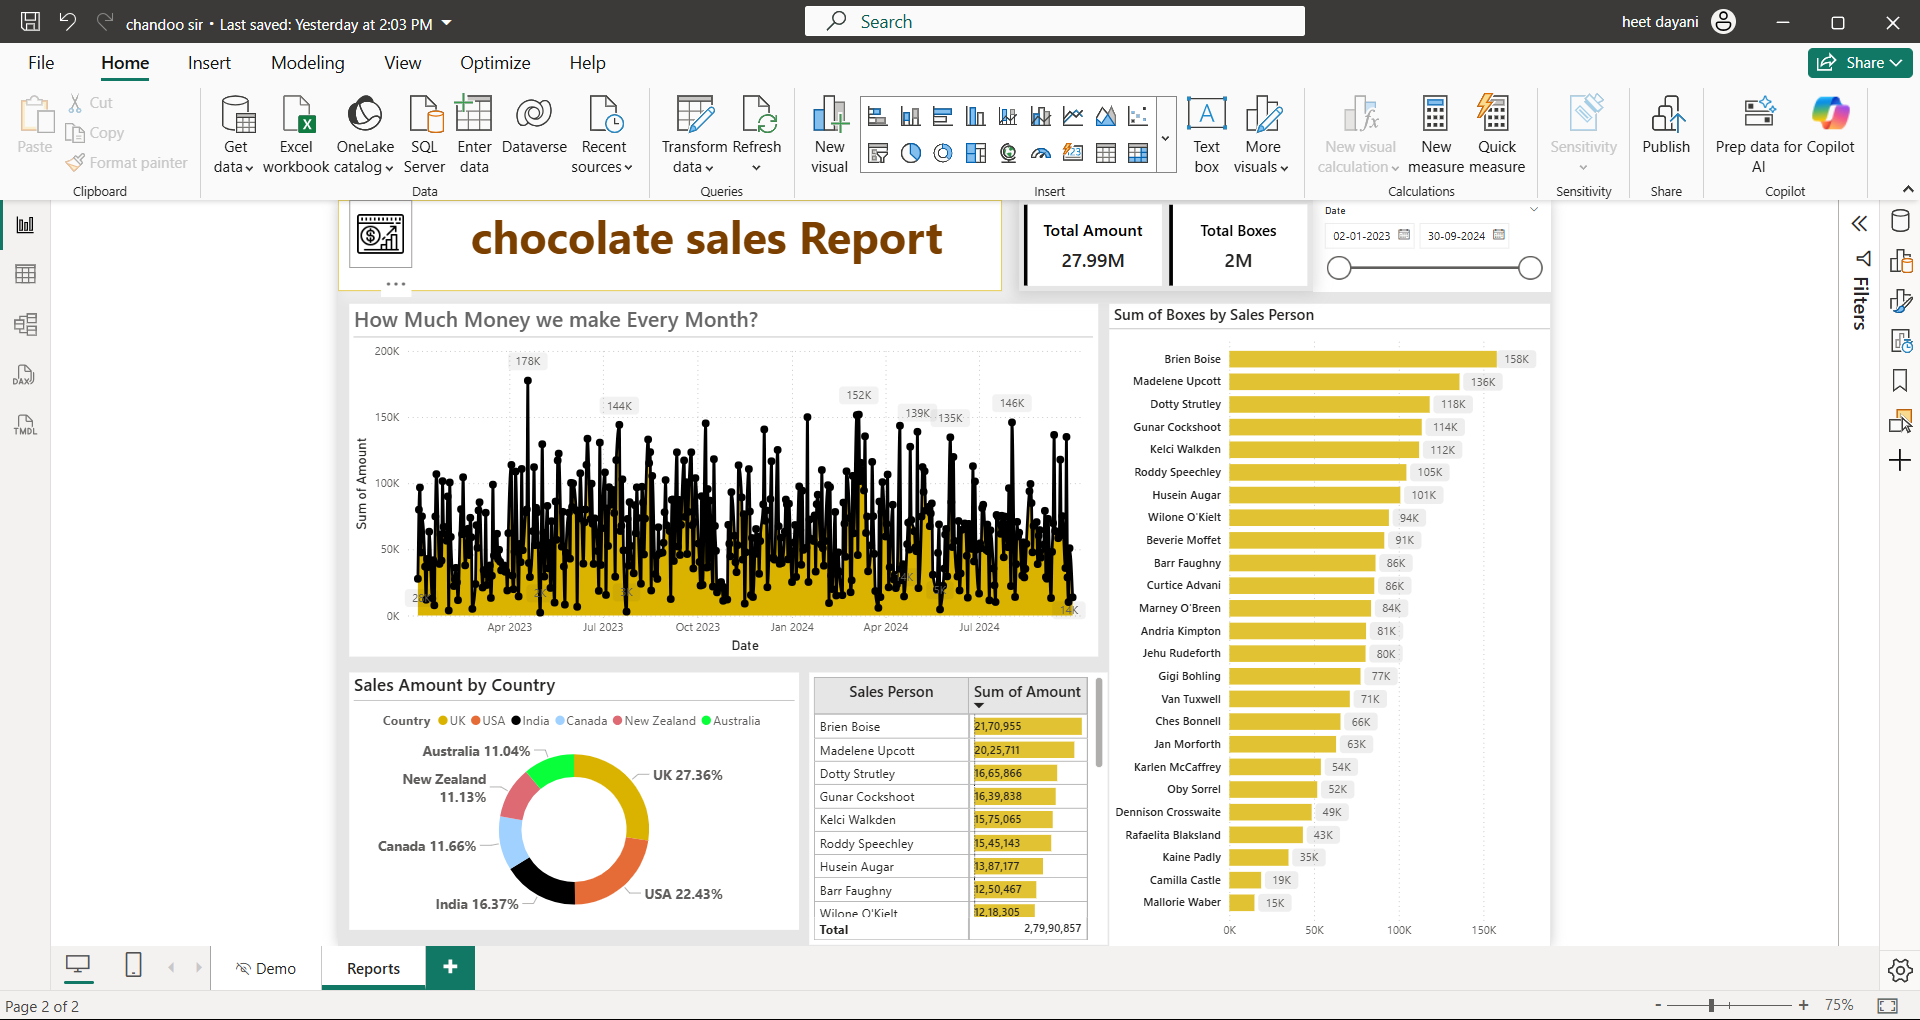

Layout of this report page (visuals, bound fields, positions):
{"tool":"powerbi","page":{"name":"Reports ","canvas":[1300,800],"ordinal":1},"visuals":[{"type":"donutChart","title":"Sales Amount by Country","fields":{"Category":["data.Country"],"Y":["Sum(data.Amount)"]},"box":[16.1,490.6,479.9,293.6],"z":0},{"type":"pivotTable","fields":{"Rows":["data.Sales Person"],"Values":["Sum(data.Amount)"]},"box":[505.4,490.6,320.4,308.3],"z":1000},{"type":"slicer","fields":{"Values":["data.Date Hierarchy.Date"]},"box":[1076.4,0,223.9,96.5],"z":2000},{"type":"clusteredBarChart","title":"Boxes and Sum of Amount by Sales Person","fields":{"Category":["data.Sales Person"],"Y":["Sum(data.Boxes)"]},"box":[832.4,112.6,463.8,662.2],"z":3000},{"type":"cardVisual","title":"Amount","fields":{"Data":["Sum(data.Amount)","Sum(data.Boxes)"]},"box":[760.1,0,304.3,104.6],"z":4000},{"type":"textbox","box":[16.1,8,719.8,96.5],"z":5000},{"type":"image","box":[48,16,64,64],"z":6000},{"type":"lineChart","title":"How Much  Money We make every Month?","fields":{"Y":["Sum(data.Amount)"],"Category":["DateTable.Date"]},"box":[16,112,800,368],"z":7000}]}

Visuals, with their boxes on the page's 1300x800 design canvas (x1, y1, x2, y2). These are canvas units, not pixel positions in the 1920x1020 screenshot, which may show the page scaled, cropped or inside an application window:
"Sales Amount by Country" donutChart: {"left": 16, "top": 491, "right": 496, "bottom": 784}
pivotTable - data.Sales Person x Sum(data.Amount): {"left": 505, "top": 491, "right": 826, "bottom": 799}
slicer - data.Date Hierarchy.Date: {"left": 1076, "top": 0, "right": 1300, "bottom": 96}
"Boxes and Sum of Amount by Sales Person" clusteredBarChart: {"left": 832, "top": 113, "right": 1296, "bottom": 775}
"Amount" cardVisual: {"left": 760, "top": 0, "right": 1064, "bottom": 105}
textbox: {"left": 16, "top": 8, "right": 736, "bottom": 104}
image: {"left": 48, "top": 16, "right": 112, "bottom": 80}
"How Much  Money We make every Month?" lineChart: {"left": 16, "top": 112, "right": 816, "bottom": 480}
